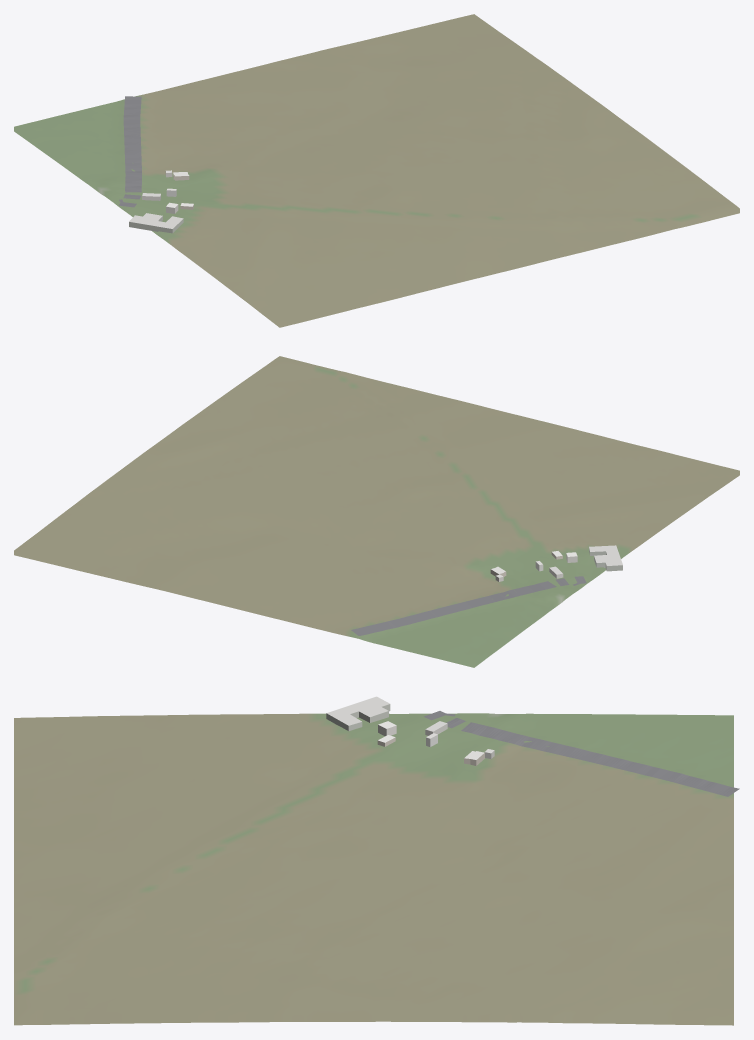
3 views of the same model, one above another, from view 1: azimuth 30°, elevation 25°; view 2: azimuth 150°, elevation 25°; view 3: azimuth 270°, elevation 25° (orthographic). The views are drawn at different scales.
Visible parts, largest first — view 1: prim0, prim2, prim1; view 2: prim0, prim2, prim1; view 3: prim0, prim2, prim1.
Part boxes in pixels (bbox=[...]): prim0: bbox=[14, 14, 739, 327]; prim2: bbox=[119, 96, 141, 207]; prim1: bbox=[129, 170, 193, 233]; prim0: bbox=[14, 356, 739, 667]; prim2: bbox=[351, 576, 586, 635]; prim1: bbox=[490, 545, 622, 581]; prim0: bbox=[14, 713, 733, 1025]; prim2: bbox=[424, 711, 739, 796]; prim1: bbox=[326, 696, 494, 765].
Bounding box in the file's own units: 531 × 15.17 × 516.
